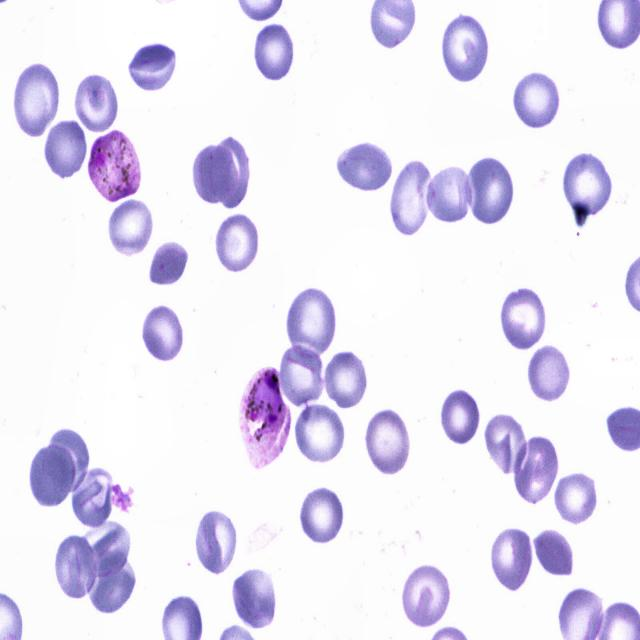difficult: (238, 363, 294, 473)
red blood cell: (560, 150, 616, 220), (285, 287, 340, 358), (12, 60, 60, 140), (363, 405, 412, 479), (390, 157, 435, 237), (441, 13, 491, 84), (86, 549, 138, 616), (466, 155, 514, 227), (424, 162, 476, 227), (499, 285, 548, 351), (76, 521, 132, 578), (293, 403, 346, 463), (333, 140, 393, 193), (28, 444, 76, 509), (402, 566, 451, 629), (42, 428, 90, 492), (512, 69, 562, 130), (516, 434, 559, 504), (231, 567, 278, 631), (210, 136, 250, 211), (54, 534, 100, 599), (72, 72, 120, 134), (195, 510, 240, 576), (490, 529, 536, 593), (277, 345, 323, 409), (125, 42, 181, 93), (298, 486, 348, 543), (484, 410, 526, 477), (439, 386, 483, 449), (324, 350, 370, 410), (44, 118, 88, 180), (71, 466, 115, 528), (108, 199, 154, 257), (194, 144, 239, 203), (215, 214, 259, 273), (528, 346, 574, 402), (255, 24, 298, 83), (142, 307, 188, 362), (554, 470, 600, 521), (533, 527, 577, 580), (147, 240, 190, 288)
trophozoite: (88, 130, 142, 203)
